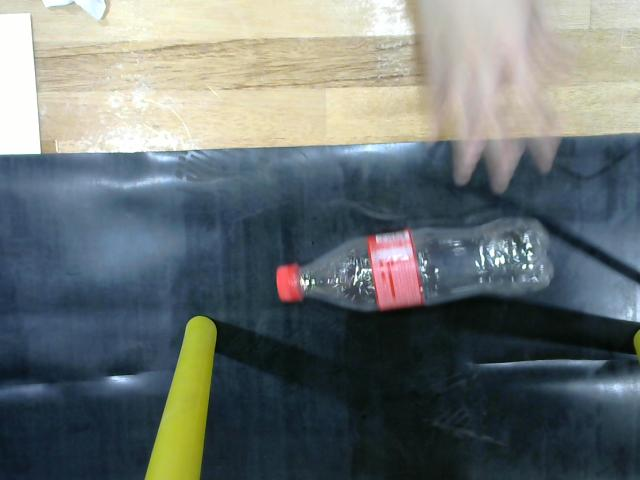bottle: (271, 214, 561, 316)
